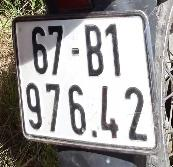1: (103, 22, 128, 78)
2: (121, 85, 151, 144)
4: (95, 83, 123, 141)
6: (65, 83, 89, 138), (29, 25, 50, 77)
7: (41, 81, 66, 136), (46, 24, 68, 78)
9: (23, 81, 46, 133)
B: (82, 22, 109, 79)
